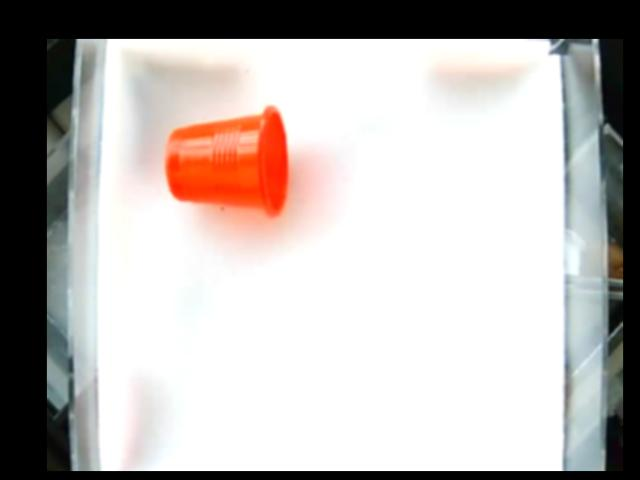Cup: (164, 104, 291, 216)
